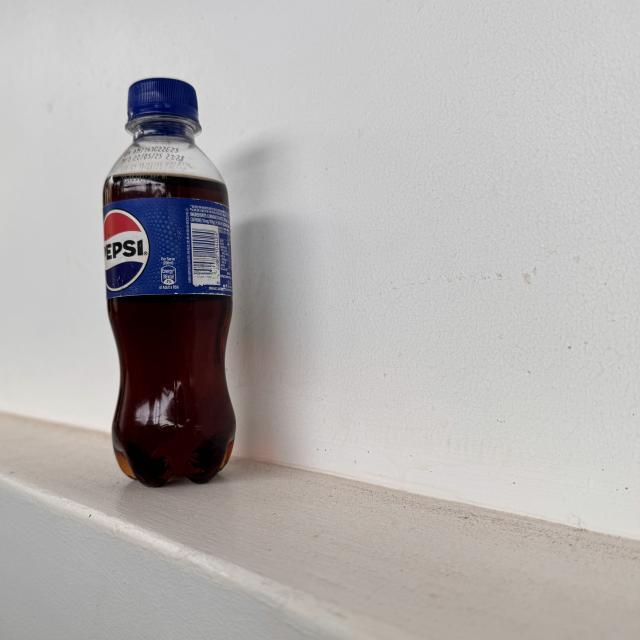pepsi: (102, 78, 236, 488)
